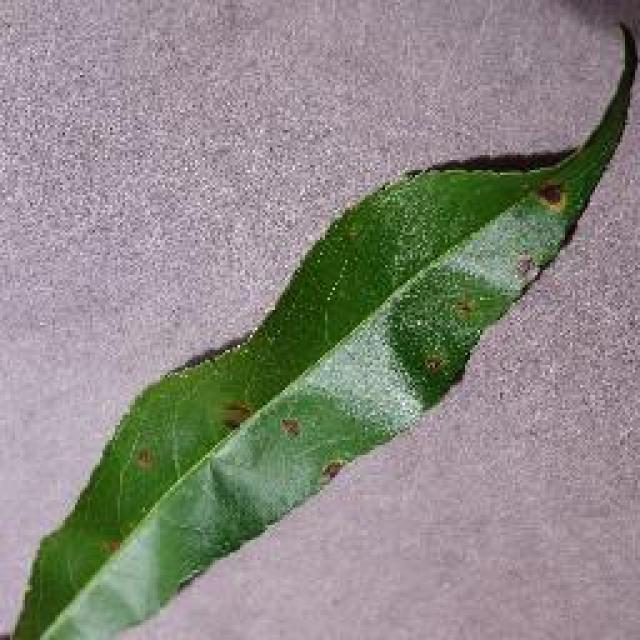Bacterial_spot: (210, 405, 352, 492), (124, 437, 161, 473)
